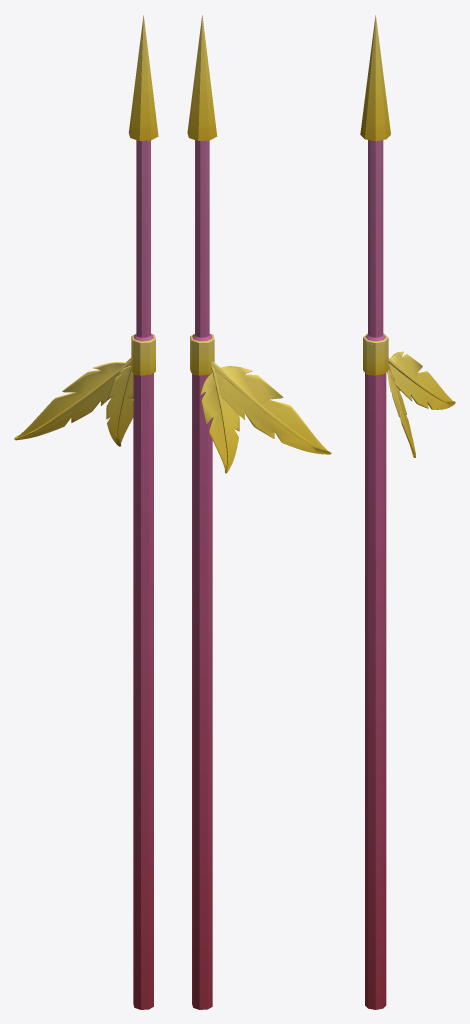
File: PanchesTominaLanza.fbx
3 views of the same model, side by side, from view 1: azimuth 30°, elevation 25°; view 2: azimuth 210°, elevation 25°; view 3: azimuth 270°, elevation 25° (orthographic).
Visible parts, largest first — view 1: LanzaTomina; view 2: LanzaTomina; view 3: LanzaTomina.
Part boxes in pixels (x1,y1,x2,y2): LanzaTomina: (14,15,158,1009); LanzaTomina: (187,15,331,1009); LanzaTomina: (360,15,455,1009).
Bounding box in the file's own units: 45.28 × 415 × 36.25.
Materials: 1 (1 with a texture image).
